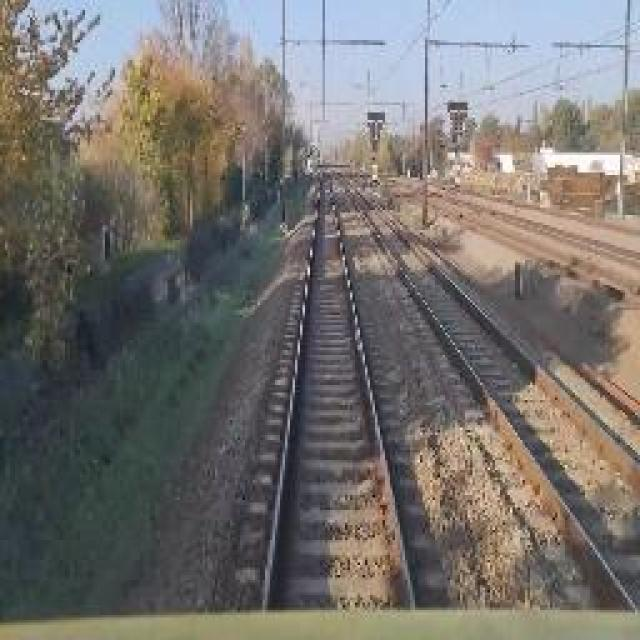rail: (324, 161, 640, 610), (216, 166, 447, 612)
